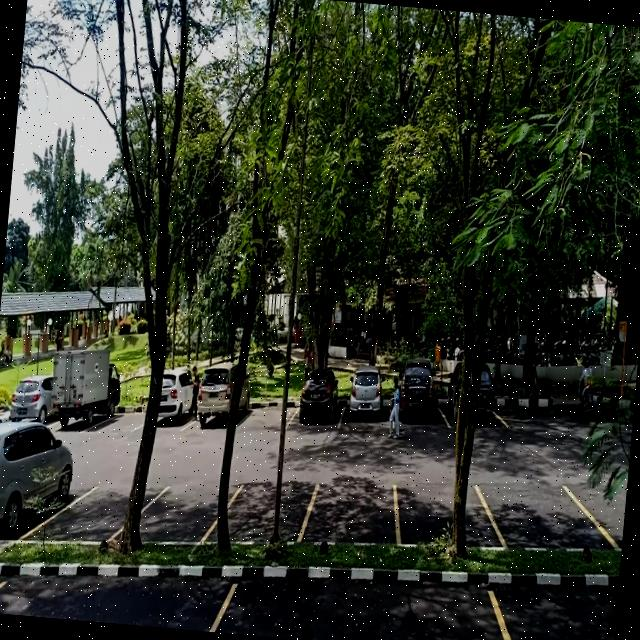empty: (219, 561, 510, 640), (0, 552, 234, 633), (494, 477, 600, 553), (394, 478, 504, 548), (306, 476, 402, 556), (222, 474, 316, 550), (49, 475, 131, 548), (140, 480, 222, 550), (242, 392, 292, 436)
occupied: (0, 426, 73, 546), (291, 378, 346, 438), (338, 379, 394, 434)
